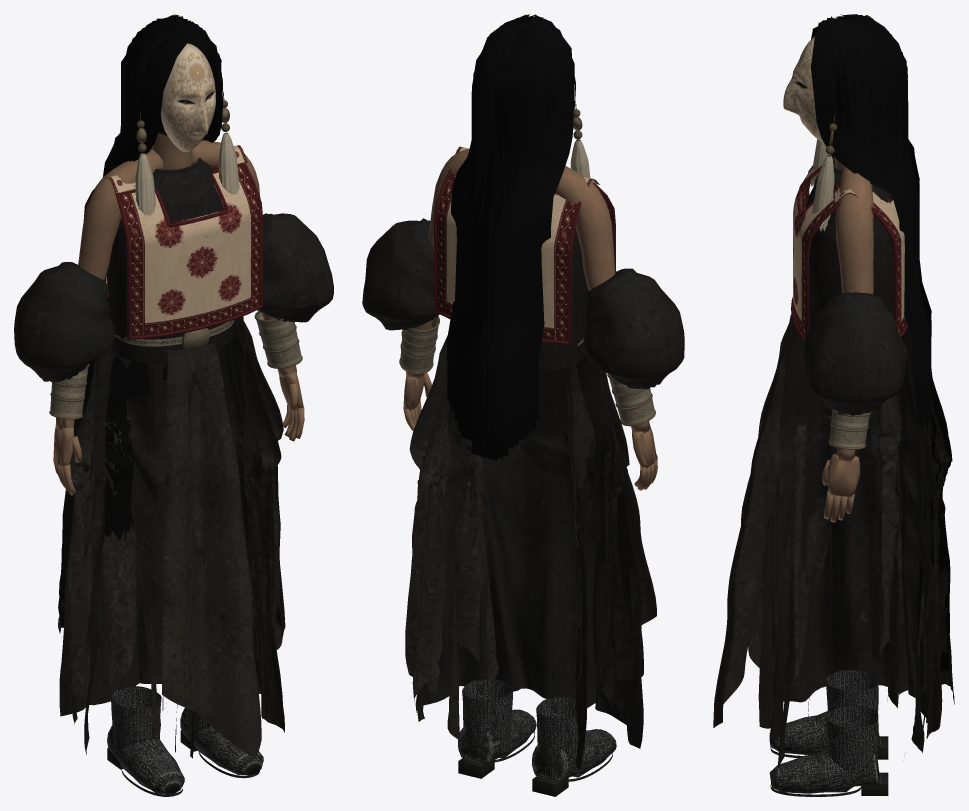
The model's file is shahrnaz.glb.
The picture shows the model from 3 angles, left to right: view 1: azimuth 30°, elevation 25°; view 2: azimuth 150°, elevation 25°; view 3: azimuth 270°, elevation 25°; orthographic projection.
Parts seen in each view (by area): view 1: Rig_Body, Rig_ArmR, Rig_Head, Rig_ArmL, Rig_LegR, Rig_Face, Rig_LegL; view 2: Rig_Body, Rig_Head, Rig_ArmR, Rig_ArmL, Rig_LegL, Rig_LegR; view 3: Rig_Body, Rig_Head, Rig_ArmL, Rig_LegL, Rig_LegR, Rig_Face.
Boxes of the visible parts, x1,y1,x2,y2 form: Rig_Body: (49, 133, 302, 769); Rig_ArmR: (14, 149, 163, 495); Rig_Head: (103, 14, 239, 410); Rig_ArmL: (191, 140, 333, 441); Rig_LegR: (107, 686, 184, 796); Rig_Face: (136, 23, 229, 152); Rig_LegL: (180, 707, 263, 778); Rig_Body: (399, 146, 656, 796); Rig_Head: (447, 14, 590, 460); Rig_ArmR: (555, 165, 684, 490); Rig_ArmL: (362, 148, 469, 430); Rig_LegL: (458, 679, 536, 763); Rig_LegR: (532, 697, 616, 781); Rig_Body: (713, 154, 954, 795); Rig_Head: (810, 14, 931, 432); Rig_ArmL: (803, 165, 907, 522); Rig_LegL: (769, 706, 879, 796); Rig_LegR: (769, 670, 879, 757); Rig_Face: (783, 36, 836, 154).
Size of the model in its own units: 0.7928 by 1.84 by 0.5329.
Materials: 7 (7 with a texture image).
